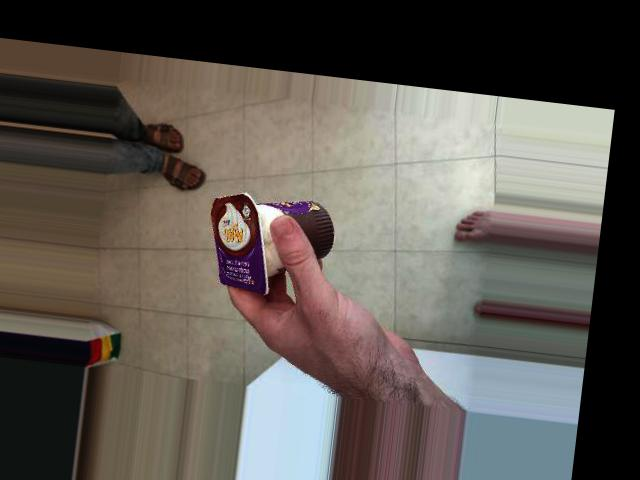milky: (200, 143, 302, 276)
